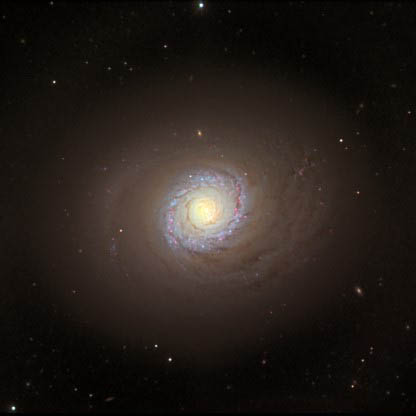Messier 94: (46, 77, 381, 352)
